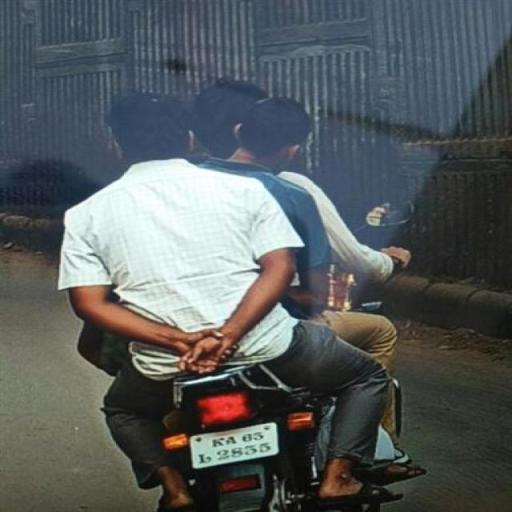tripple riding: (40, 72, 417, 360)
